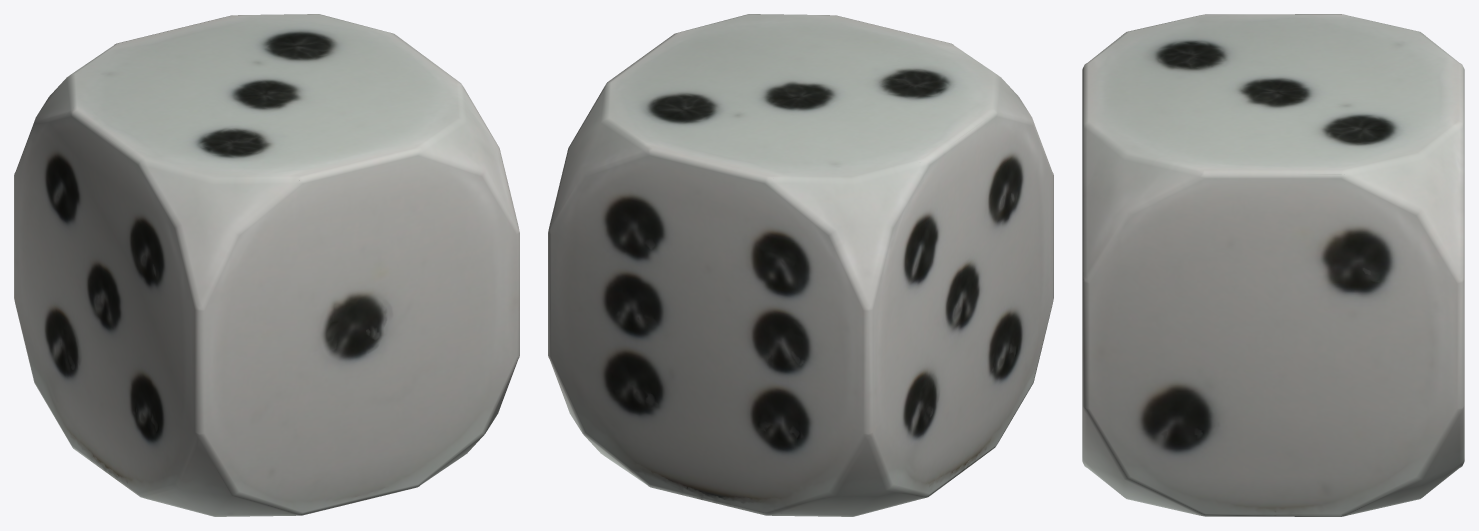
Rendered from 062_dice.dae.
The picture shows the model from 3 angles, left to right: view 1: azimuth 30°, elevation 25°; view 2: azimuth 150°, elevation 25°; view 3: azimuth 270°, elevation 25°; orthographic projection.
Parts seen in each view (by area): view 1: 062_dice; view 2: 062_dice; view 3: 062_dice.
Boxes of the visible parts, x1,y1,x2,y2 form: 062_dice: (14, 14, 519, 516); 062_dice: (548, 14, 1053, 516); 062_dice: (1082, 14, 1464, 516).
Bounding box in the file's own units: 0.0169 × 0.0169 × 0.0169.
1 material, 1 textured.
